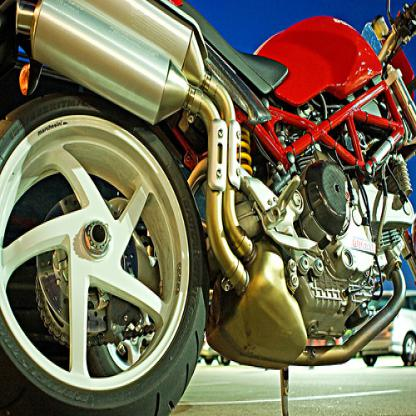car: (364, 289, 415, 366)
motorbike: (0, 0, 415, 415)
